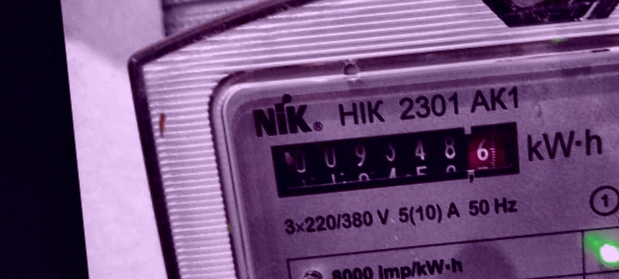0: (288, 149, 307, 176), (319, 143, 335, 170)
3: (380, 138, 396, 164)
4: (406, 133, 427, 164)
6: (470, 134, 490, 165)
8: (438, 133, 456, 162)
9: (350, 143, 367, 171)
screen: (249, 106, 534, 212)
